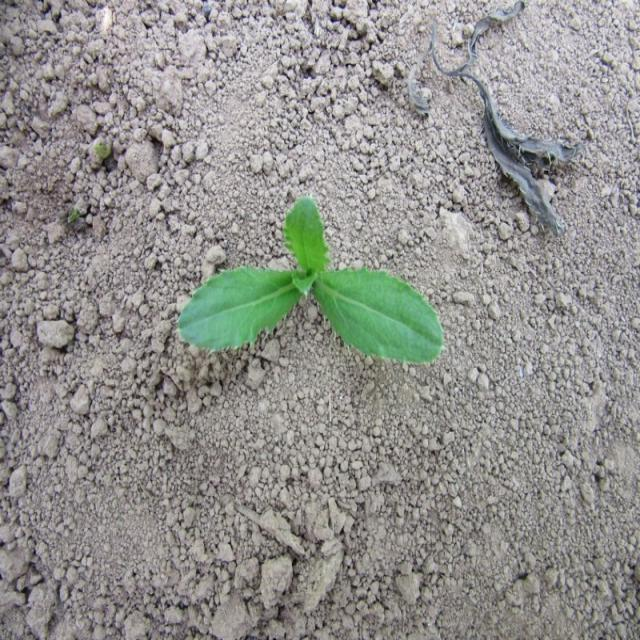field_thistle: (162, 188, 442, 391)
